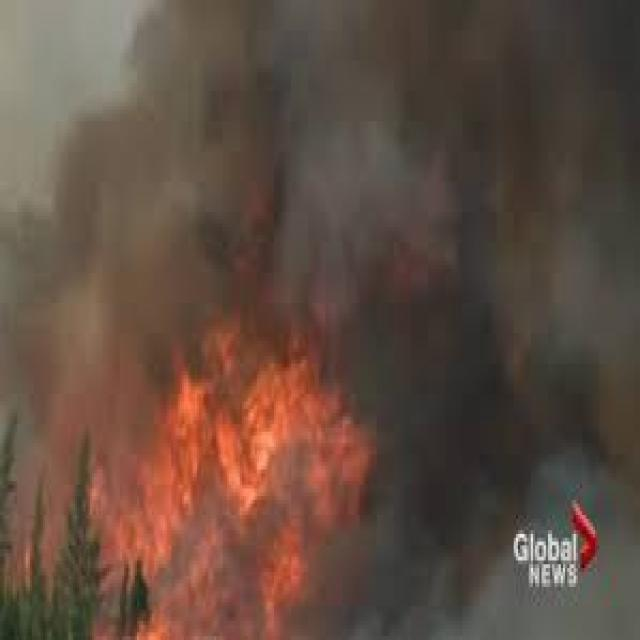Fire: (98, 336, 372, 636), (574, 503, 600, 576)
Smoke: (55, 30, 590, 312), (401, 357, 608, 640)
